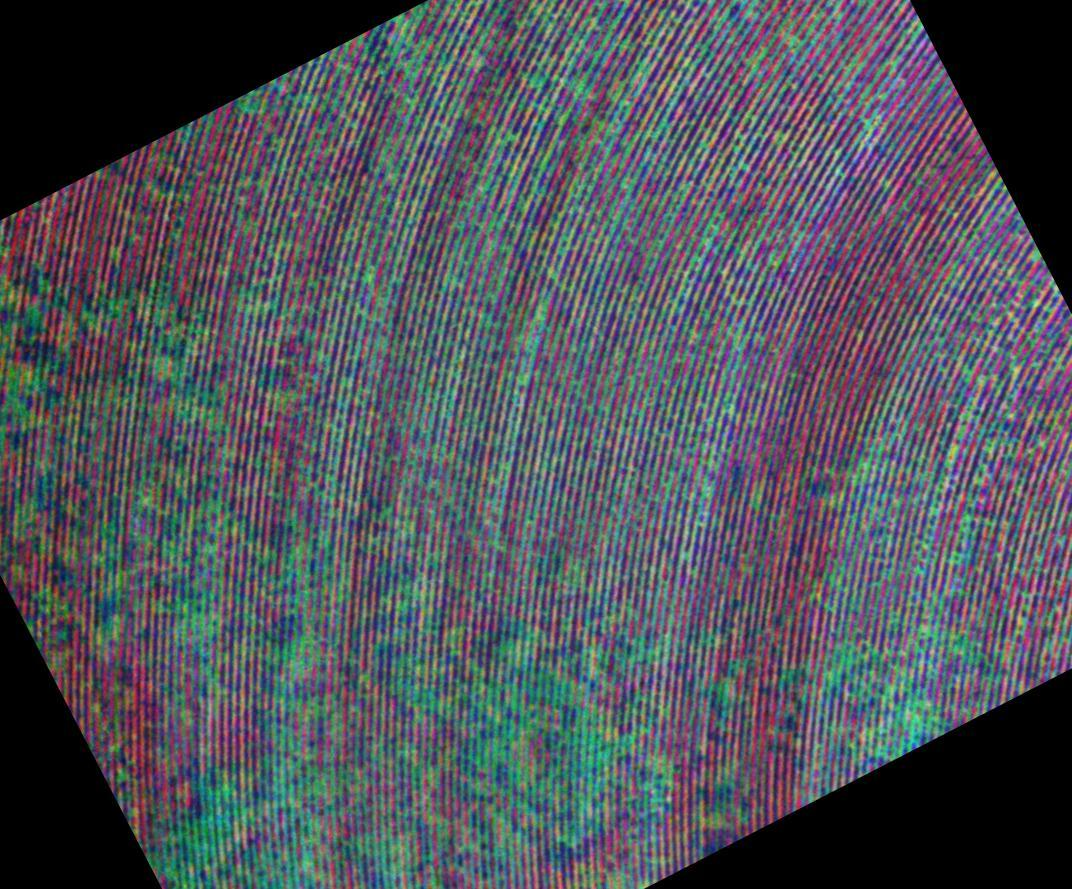dc: (441, 606, 643, 844), (152, 744, 354, 889), (139, 480, 228, 677), (0, 263, 88, 453), (132, 281, 230, 435), (824, 636, 936, 744), (269, 524, 340, 685)
